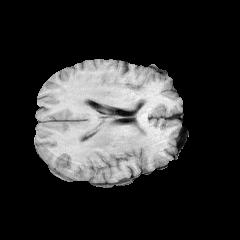glioma: (65, 128, 150, 162)
